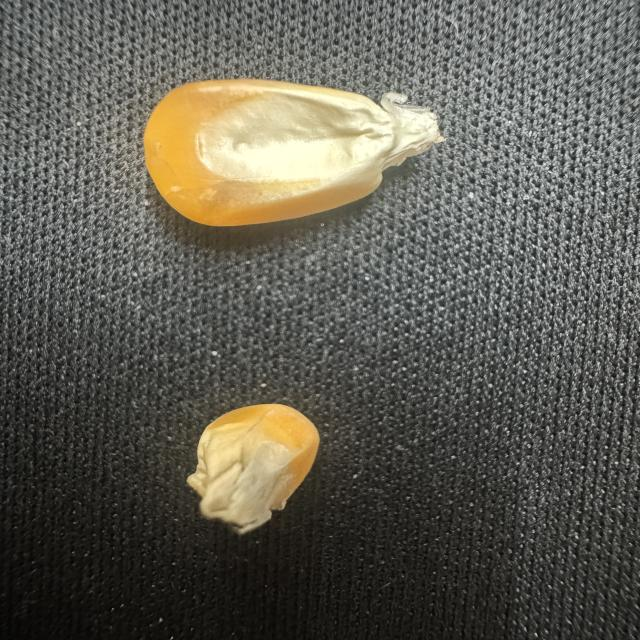Bad-Seed: (184, 396, 328, 548)
Good-Seed: (132, 72, 456, 234)
